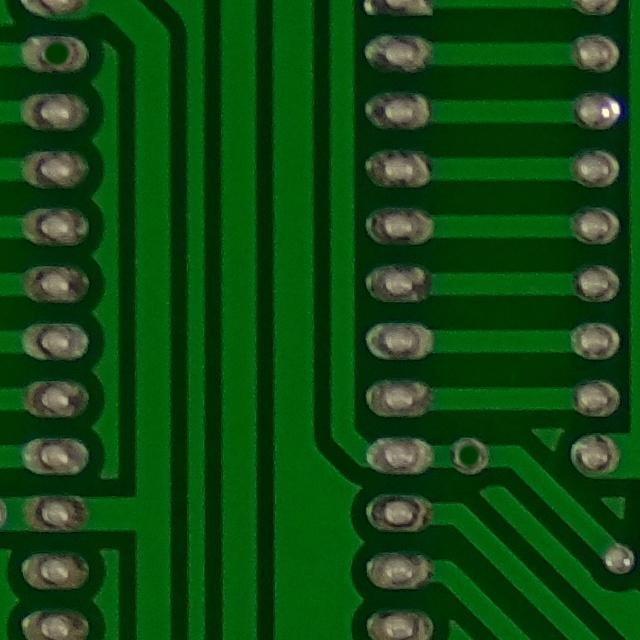missing_hole: (23, 27, 94, 83), (440, 425, 489, 486)
